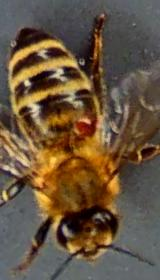varroa_mite: (71, 104, 101, 141)
